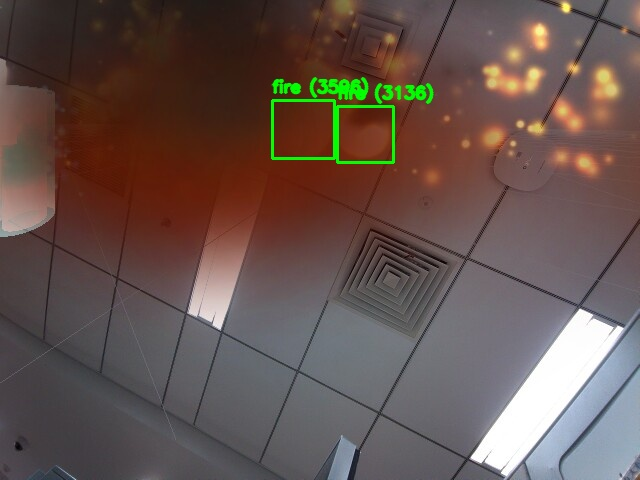fire: (272, 100, 334, 158), (337, 106, 393, 162)
